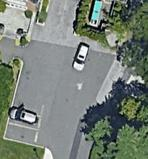parkingspot: (3, 97, 46, 147)
